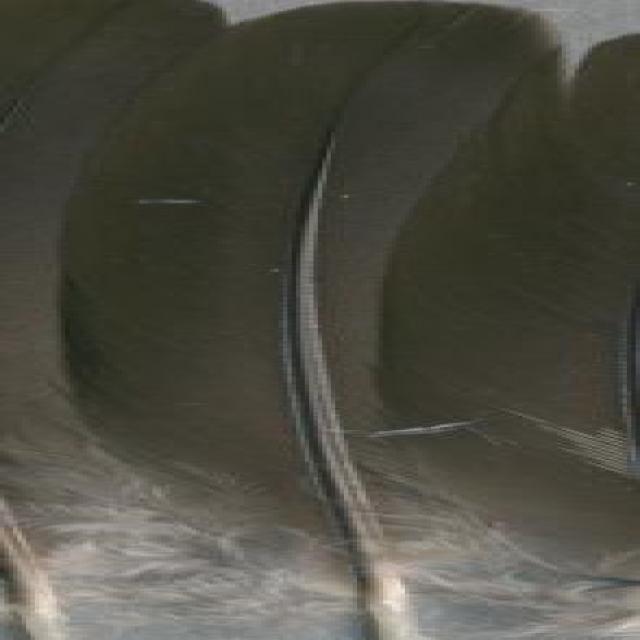feather: (58, 0, 566, 640), (383, 31, 635, 640)
